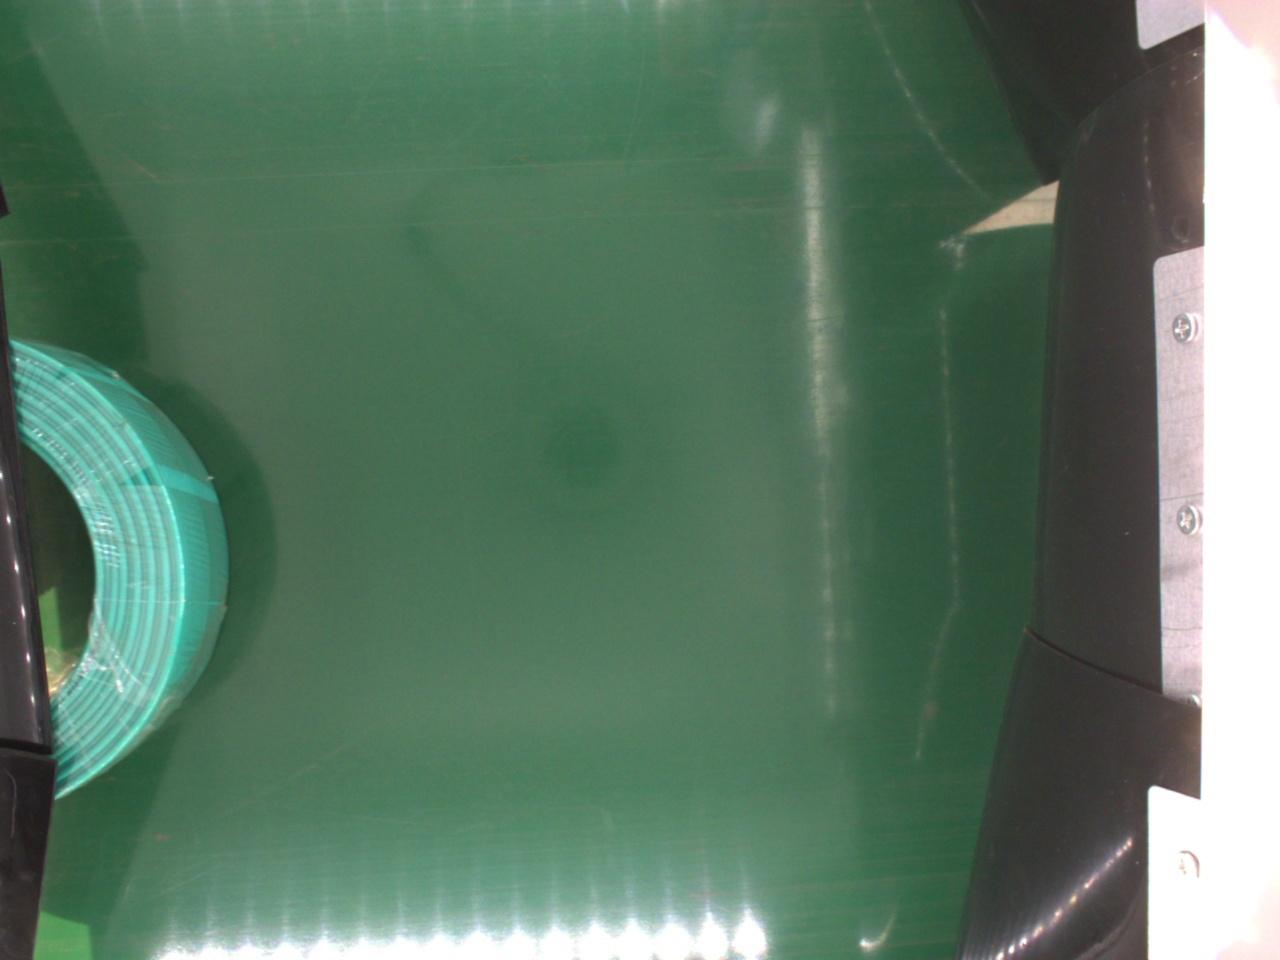green: (8, 337, 229, 799)
